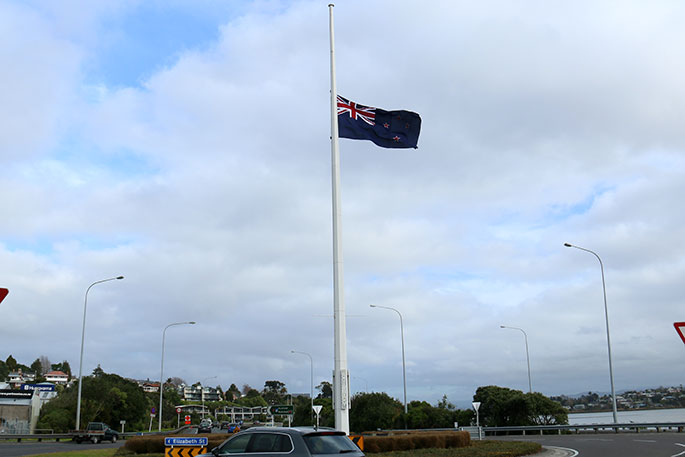Flag: (331, 90, 422, 152)
